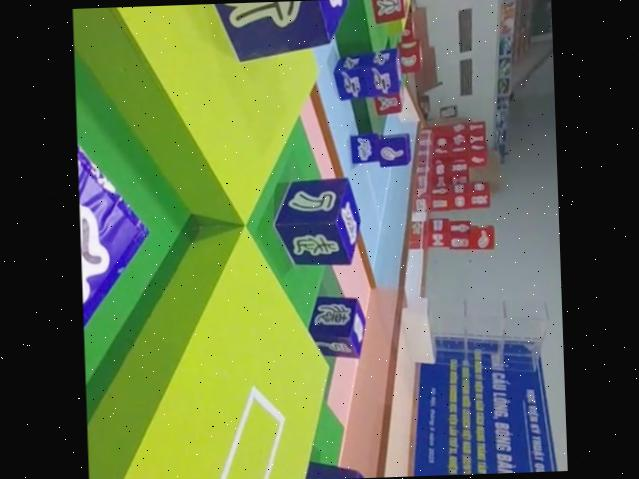R2 Fake Blue: (187, 0, 349, 63), (268, 175, 359, 268), (305, 296, 367, 362), (290, 458, 368, 479)
R2 Real Blue: (348, 130, 412, 167)
